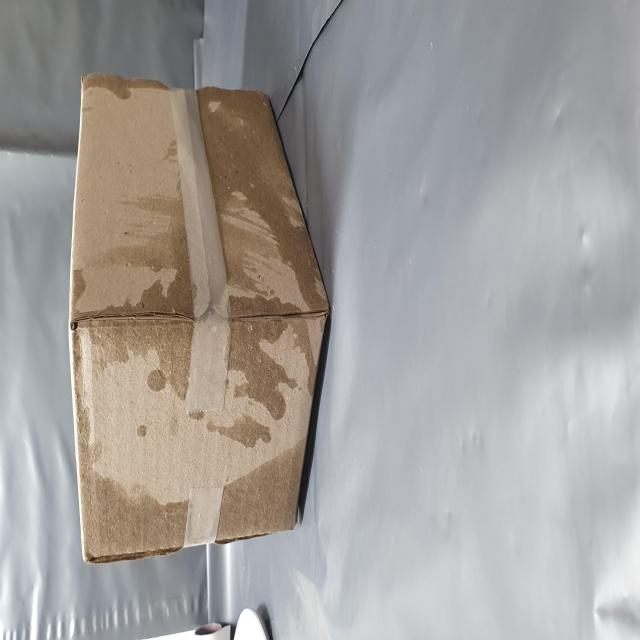wet: (53, 384, 312, 577), (131, 164, 259, 336), (43, 132, 112, 324), (299, 152, 319, 297)
